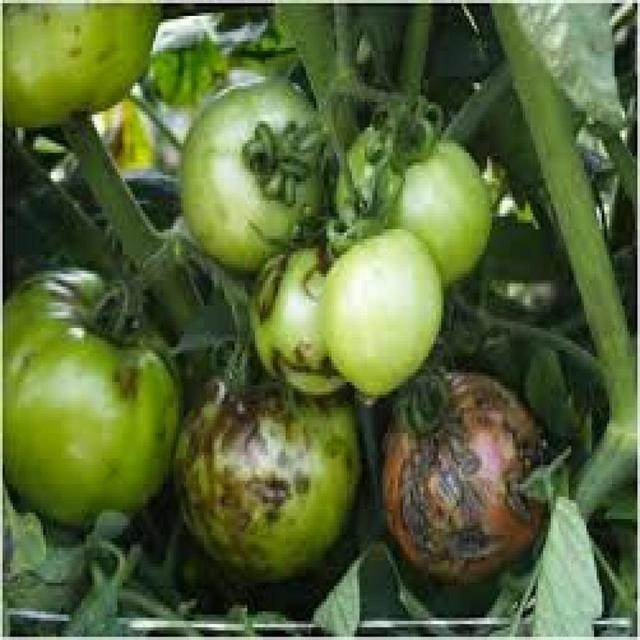Spotted wilt Virus Fruit: (62, 146, 315, 321)
